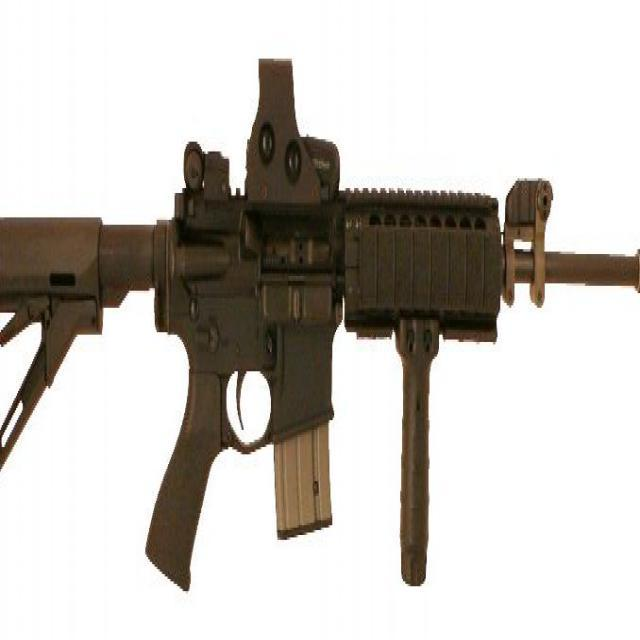weapon: (0, 58, 640, 599)
